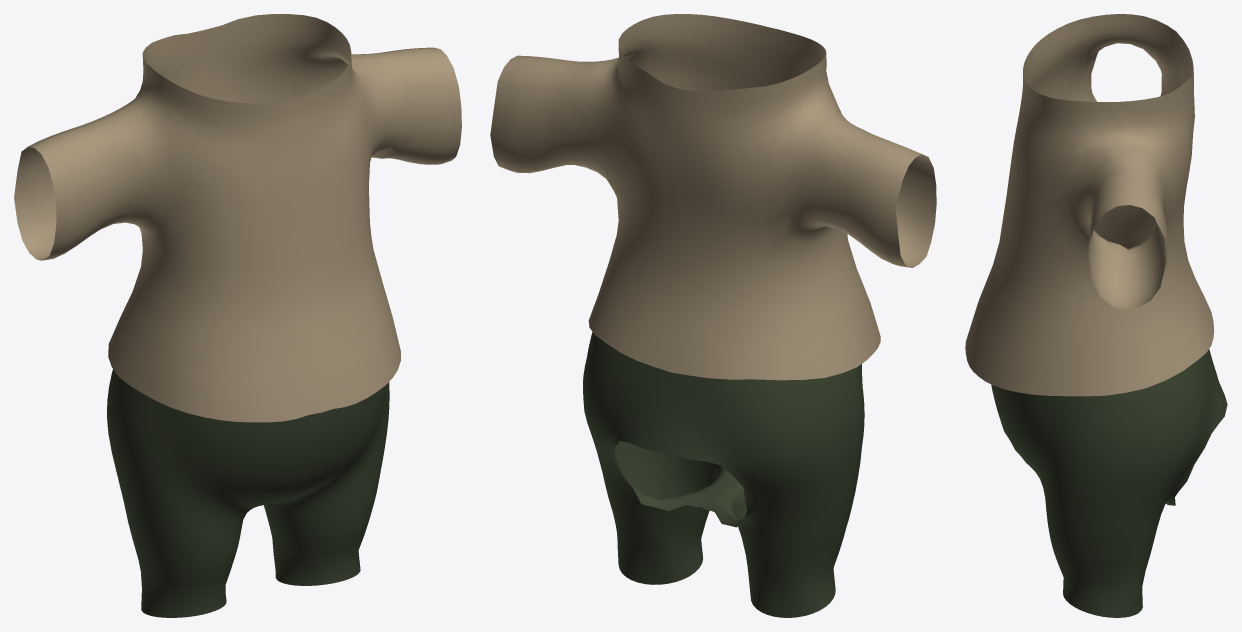
The model's file is clothing01.glb.
3 views of the same model, side by side, from view 1: azimuth 30°, elevation 25°; view 2: azimuth 150°, elevation 25°; view 3: azimuth 270°, elevation 25° (orthographic). The views are drawn at different scales.
Visible parts, largest first — view 1: Pants; view 2: Pants; view 3: Pants.
Boxes of the visible parts, left/top/right/bottom form: Pants: left=14, top=14, right=461, bottom=617; Pants: left=490, top=14, right=936, bottom=617; Pants: left=965, top=14, right=1227, bottom=617.
Size of the model in its own units: 0.8781 by 1.11 by 0.5099.
